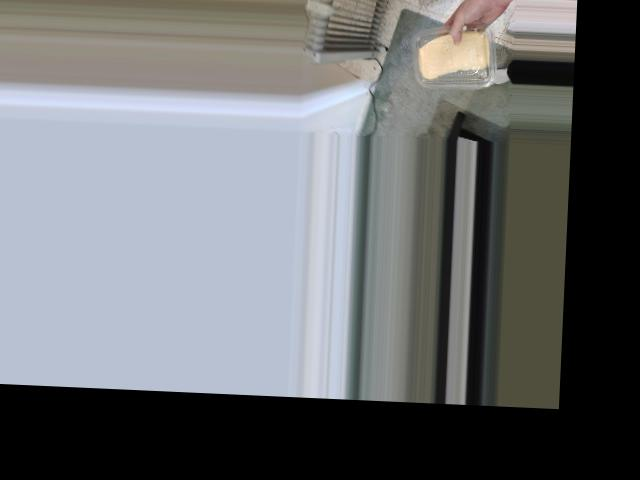cheese: (407, 21, 497, 89)
